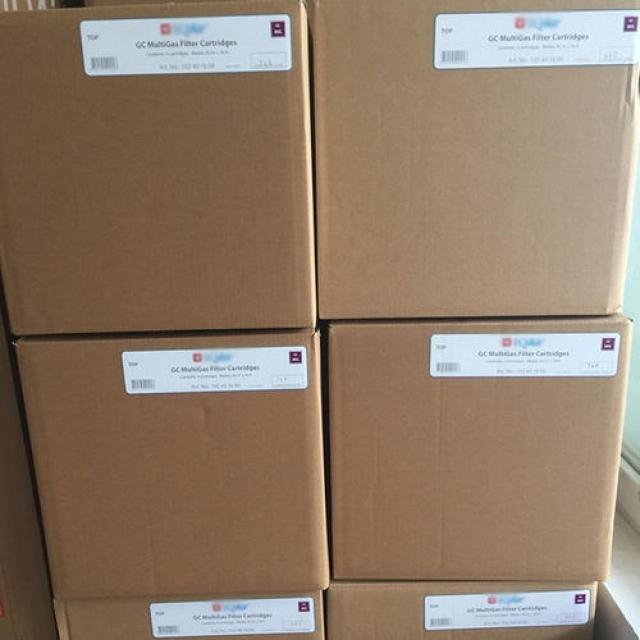box: (0, 0, 317, 336), (14, 329, 331, 600), (327, 313, 635, 582), (326, 580, 598, 639), (52, 591, 325, 639)
